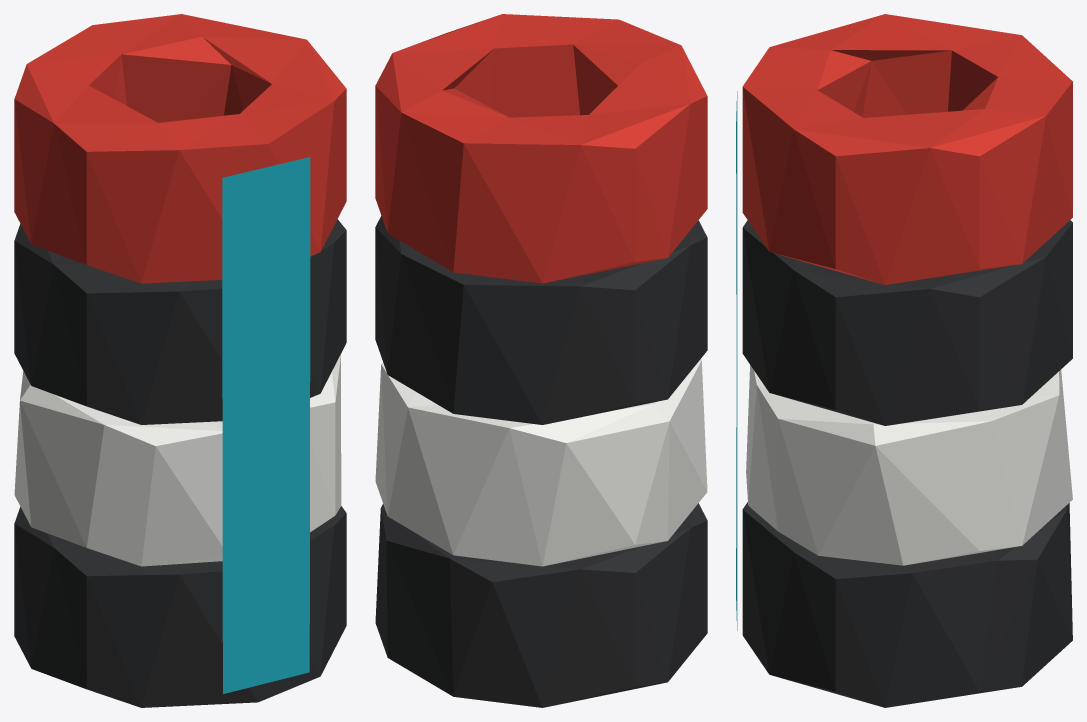
File: tyre_stack_lod1.obj
3 views of the same model, side by side, from view 1: azimuth 30°, elevation 25°; view 2: azimuth 150°, elevation 25°; view 3: azimuth 270°, elevation 25° (orthographic).
Parts seen in each view (by area): view 1: tyre_stack_lod1; view 2: tyre_stack_lod1; view 3: tyre_stack_lod1.
Part boxes in pixels (x1=…): tyre_stack_lod1: x1=14, y1=14, x2=346, y2=707; tyre_stack_lod1: x1=375, y1=14, x2=707, y2=707; tyre_stack_lod1: x1=736, y1=14, x2=1072, y2=707.
Size of the model in its own units: 0.6407 by 1.2 by 0.65.
